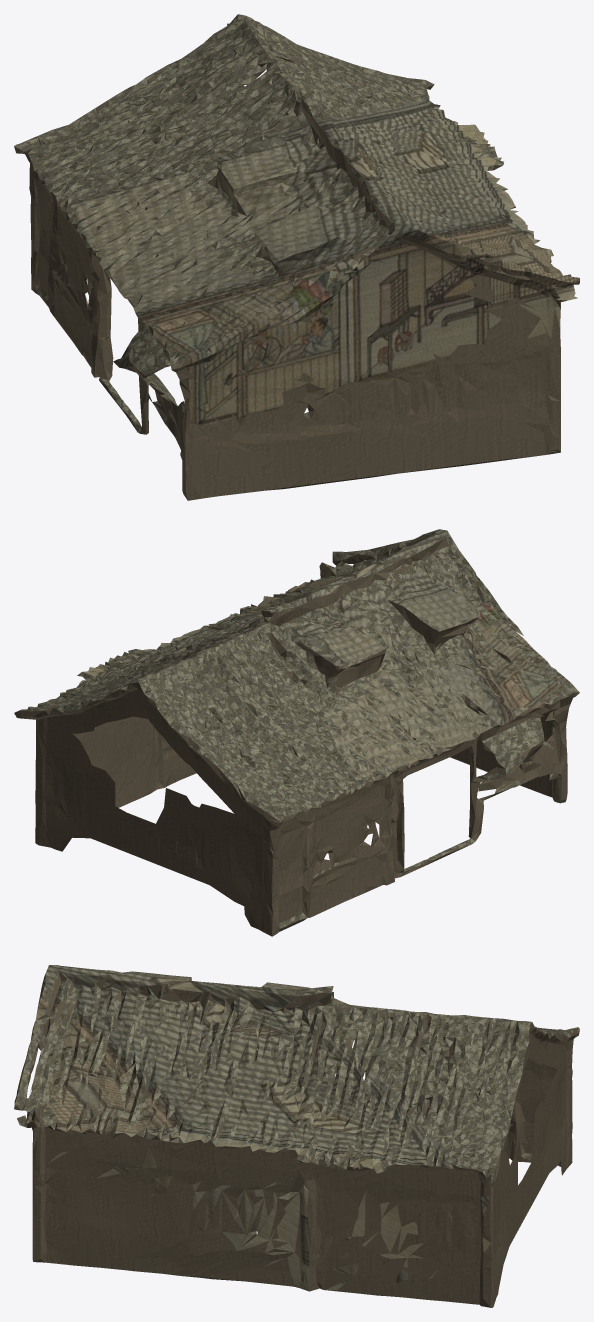
The picture shows the model from 3 angles, top to bottom: view 1: azimuth 30°, elevation 25°; view 2: azimuth 150°, elevation 25°; view 3: azimuth 270°, elevation 25°; orthographic projection. The views are drawn at different scales.
Visible parts, largest first — view 1: painted, wall, roof; view 2: wall, roof, painted; view 3: wall, painted, roof.
Boxes of the visible parts, <box> form: painted: <box>66,96,579,431</box>; wall: <box>14,40,579,500</box>; roof: <box>14,14,560,452</box>; wall: <box>14,532,579,936</box>; roof: <box>17,533,579,928</box>; painted: <box>52,529,570,785</box>; wall: <box>14,970,579,1307</box>; painted: <box>14,965,491,1293</box>; roof: <box>15,970,579,1265</box>.
Bounding box in the file's own units: 11.66 × 6.23 × 13.44.
3 materials, 3 textured.
